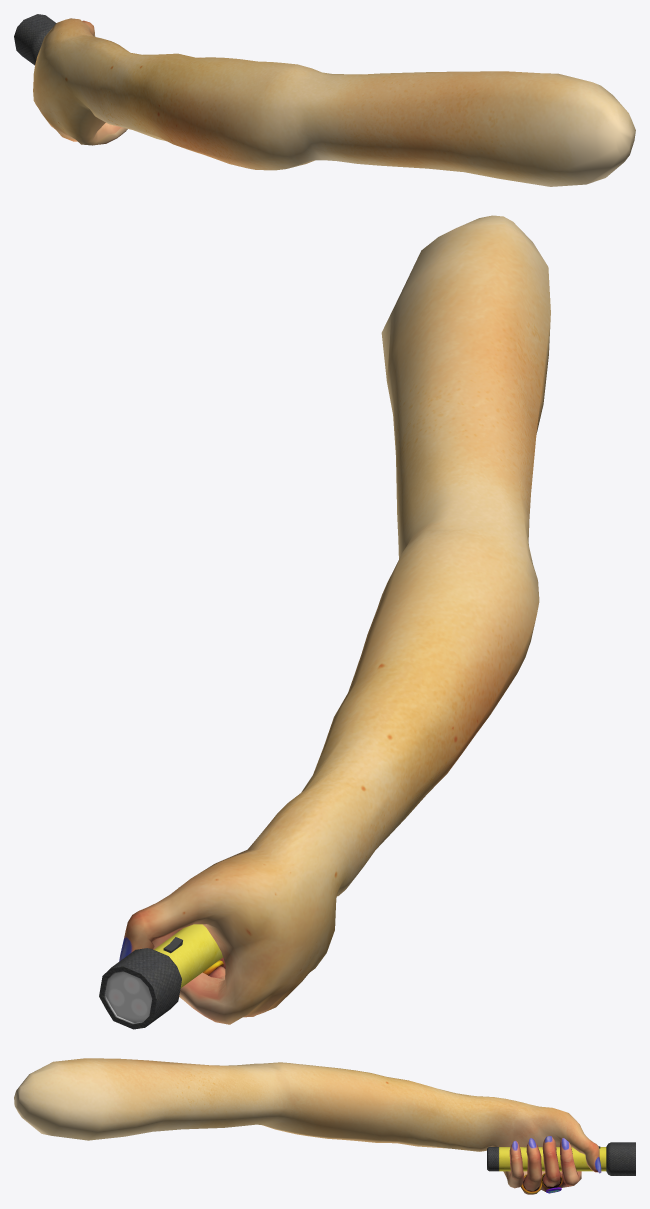
The model's file is Ch_ArmHoldingFlashlight_model.fbx.
3 renders of one model, top to bottom at view 1: azimuth 30°, elevation 25°; view 2: azimuth 150°, elevation 25°; view 3: azimuth 270°, elevation 25°, orthographic. The views are drawn at different scales.
Parts seen in each view (by area): view 1: Ch_ArmHoldingFlashligt; view 2: Ch_ArmHoldingFlashligt; view 3: Ch_ArmHoldingFlashligt.
Part boxes in pixels (x1,y1,x2,y2): Ch_ArmHoldingFlashligt: [14, 14, 635, 186]; Ch_ArmHoldingFlashligt: [99, 215, 550, 1029]; Ch_ArmHoldingFlashligt: [14, 1058, 635, 1194].
Bounding box in the file's own units: 33.51 × 31.3 × 94.84.
